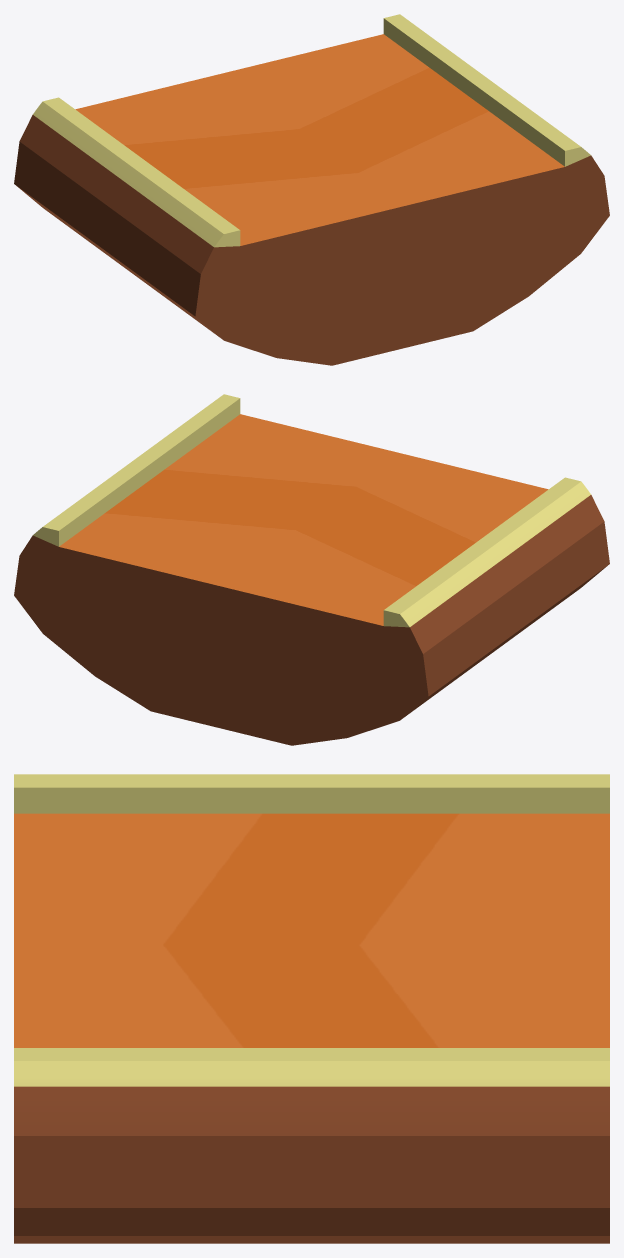
The model's file is gemi_arka_parca.fbx.
3 renders of one model, top to bottom at view 1: azimuth 30°, elevation 25°; view 2: azimuth 150°, elevation 25°; view 3: azimuth 270°, elevation 25°, orthographic. The views are drawn at different scales.
Visible parts, largest first — view 1: 2. parça; view 2: 2. parça; view 3: 2. parça.
Boxes of the visible parts, bbox=[...] form: 2. parça: bbox=[14, 14, 609, 365]; 2. parça: bbox=[14, 394, 609, 745]; 2. parça: bbox=[14, 774, 609, 1243].
Size of the model in its own units: 528 by 192 by 400.
3 materials, 1 textured.
